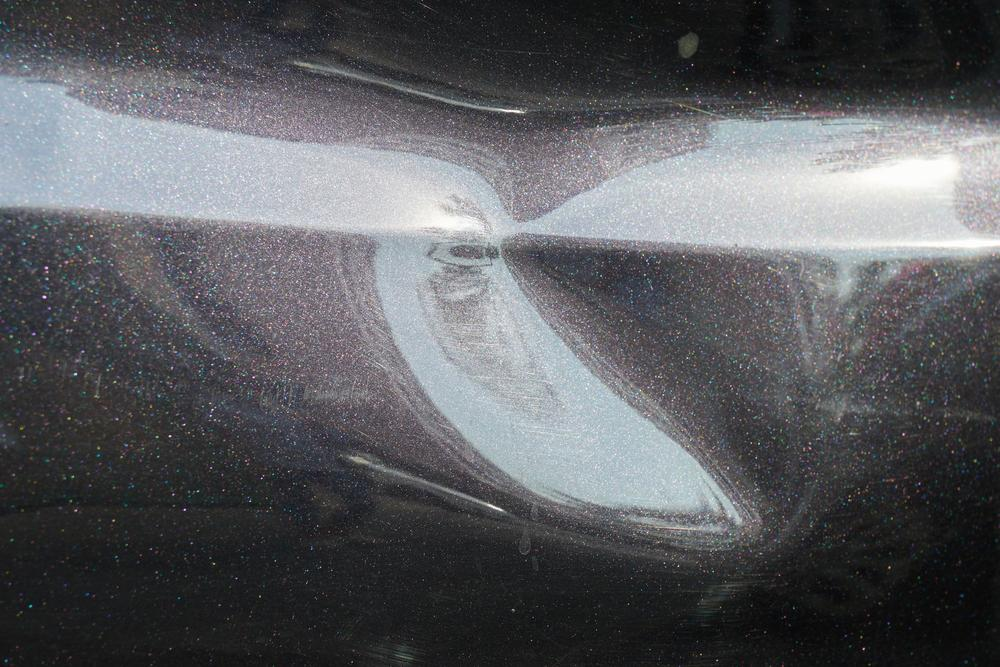dent: (357, 143, 814, 556)
